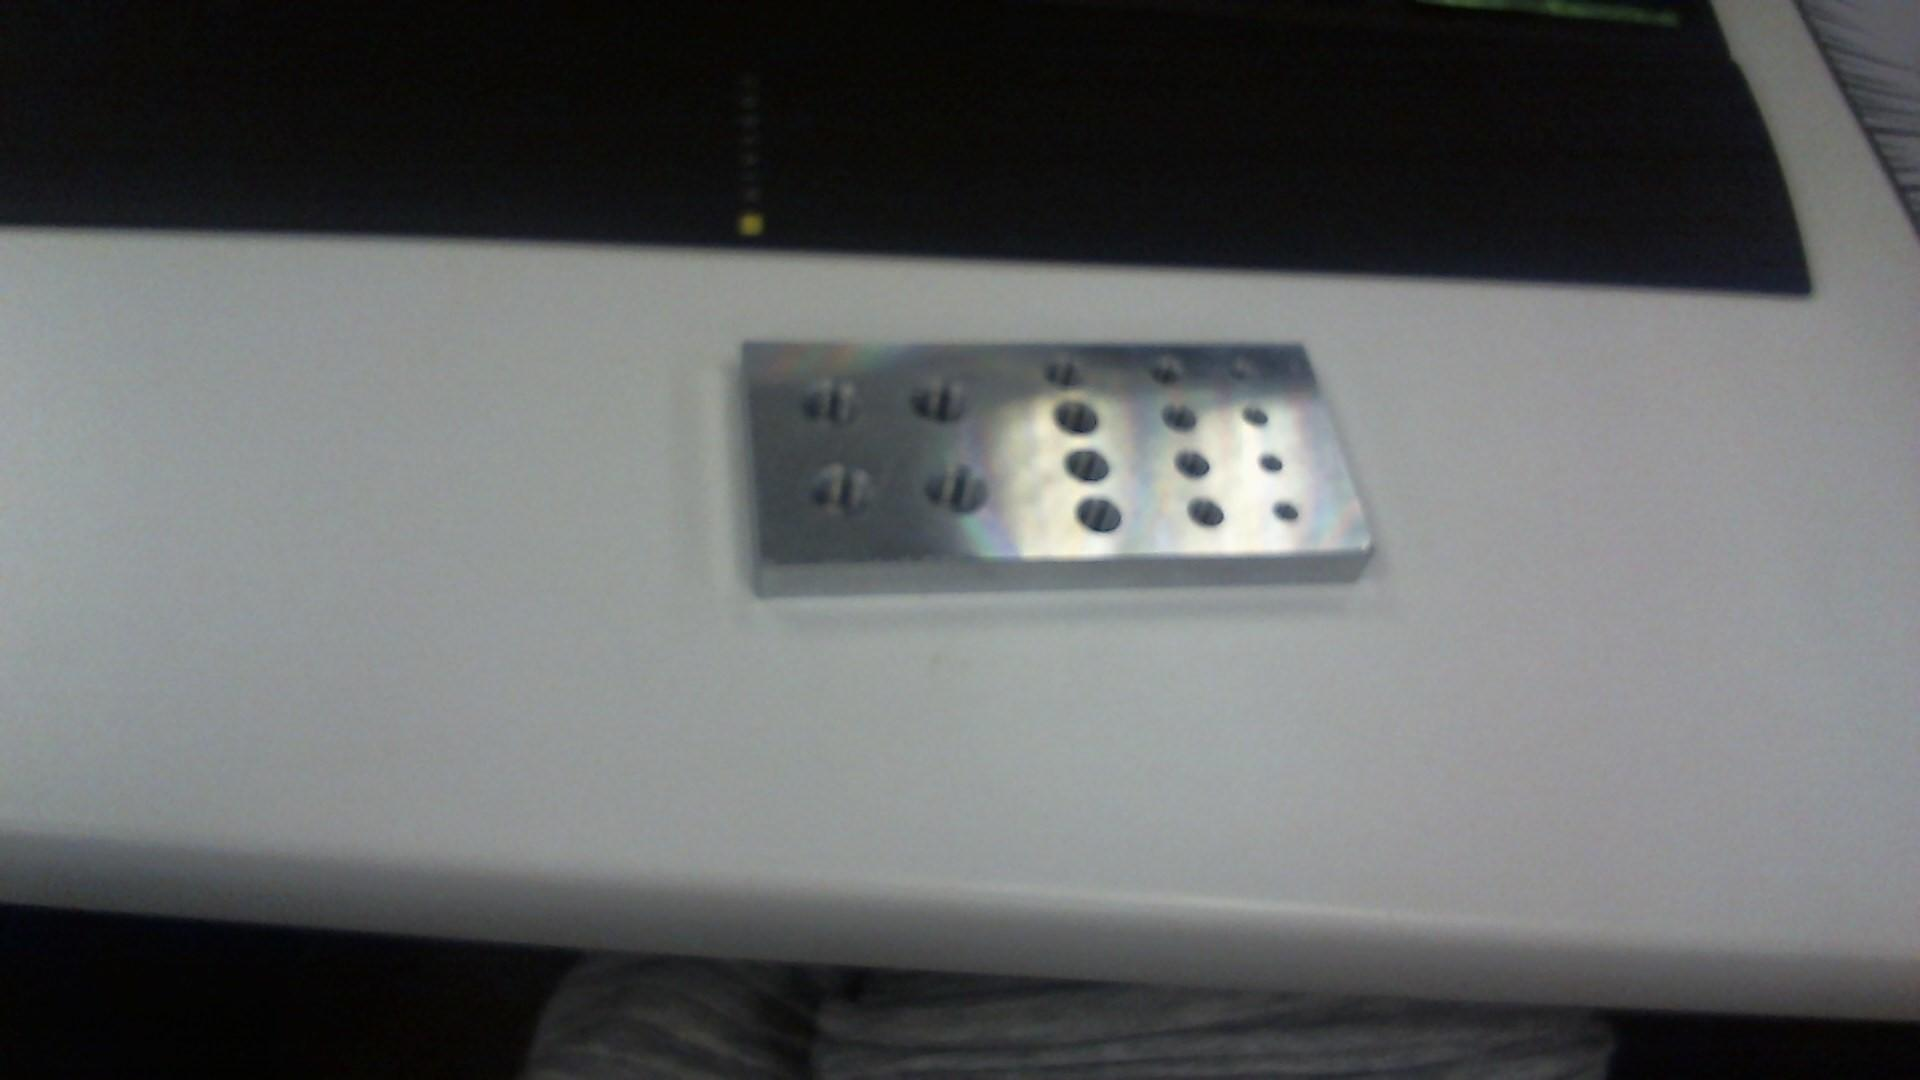hole: (806, 463, 889, 525), (923, 456, 1001, 517), (798, 375, 869, 433), (907, 377, 978, 430), (1063, 443, 1121, 488), (1071, 495, 1127, 538), (1043, 349, 1096, 396), (1048, 398, 1104, 436), (1141, 355, 1185, 392), (1187, 493, 1226, 534), (1249, 447, 1298, 479), (1171, 447, 1211, 481), (1158, 401, 1199, 434), (1244, 404, 1282, 435), (1229, 356, 1258, 393), (1273, 495, 1302, 527)
